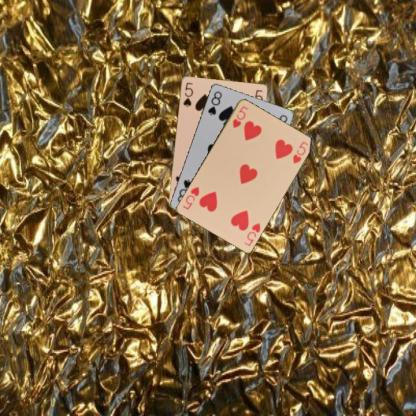5h: (242, 220, 262, 247), (230, 103, 250, 129)
5s: (181, 80, 194, 108)
8s: (205, 89, 223, 116)
